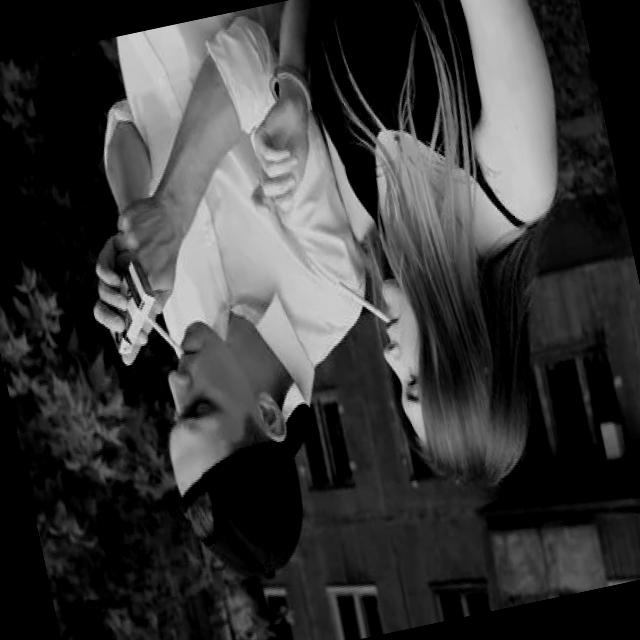cigarette: (332, 263, 400, 341), (136, 298, 194, 372)
